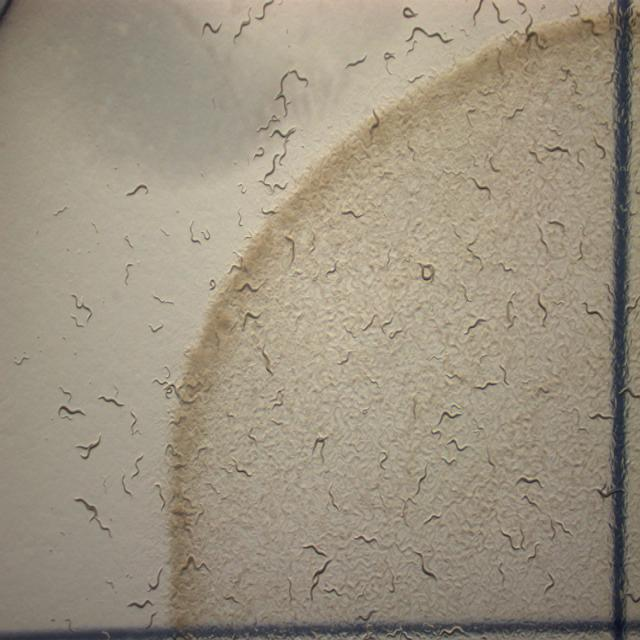filarid: (259, 127, 296, 192), (74, 497, 111, 536), (401, 462, 427, 516), (152, 379, 198, 403), (310, 559, 332, 600), (411, 549, 436, 580), (180, 554, 210, 575), (76, 434, 101, 459), (466, 237, 484, 269), (71, 294, 92, 321), (474, 372, 500, 390), (312, 434, 329, 461), (470, 177, 491, 198), (148, 567, 163, 595), (464, 317, 486, 335), (261, 345, 274, 375), (582, 302, 604, 319), (59, 404, 85, 418), (242, 310, 260, 329), (516, 475, 544, 487), (154, 482, 166, 510), (537, 224, 549, 251), (232, 459, 251, 476), (538, 294, 548, 326), (98, 395, 124, 407), (328, 484, 340, 510), (301, 544, 326, 556), (126, 184, 149, 197), (438, 410, 461, 423), (128, 597, 155, 608), (130, 409, 141, 435), (361, 314, 378, 330), (285, 235, 295, 261), (594, 137, 606, 158), (544, 145, 571, 154), (420, 264, 435, 280), (354, 534, 378, 544), (248, 427, 265, 441), (190, 220, 200, 243), (341, 209, 364, 219), (448, 439, 468, 450), (236, 282, 258, 292), (338, 350, 352, 365), (424, 513, 441, 524), (412, 392, 418, 421), (379, 450, 388, 469), (590, 412, 614, 419), (489, 157, 500, 172), (326, 260, 337, 275), (71, 315, 84, 327), (441, 455, 456, 465), (149, 322, 164, 332), (125, 264, 132, 284), (60, 386, 71, 398), (255, 147, 265, 157), (201, 229, 210, 240), (261, 207, 275, 214), (238, 209, 242, 227), (238, 184, 245, 194), (114, 384, 119, 395), (558, 224, 564, 229), (466, 298, 471, 302), (79, 499, 84, 502)
